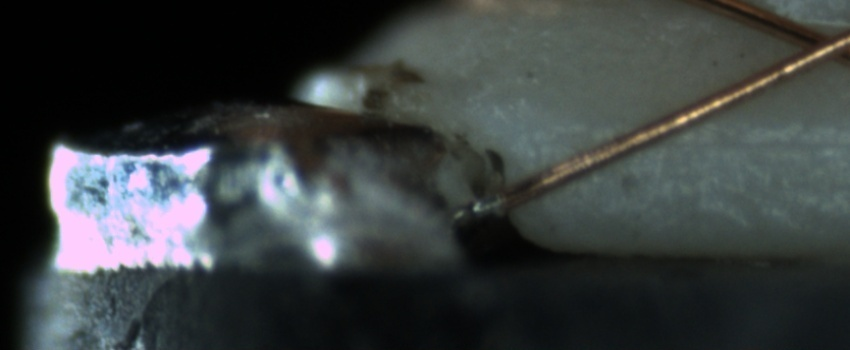CL: (770, 13, 850, 75)
DL: (568, 111, 845, 172)
TS: (455, 191, 503, 220)
